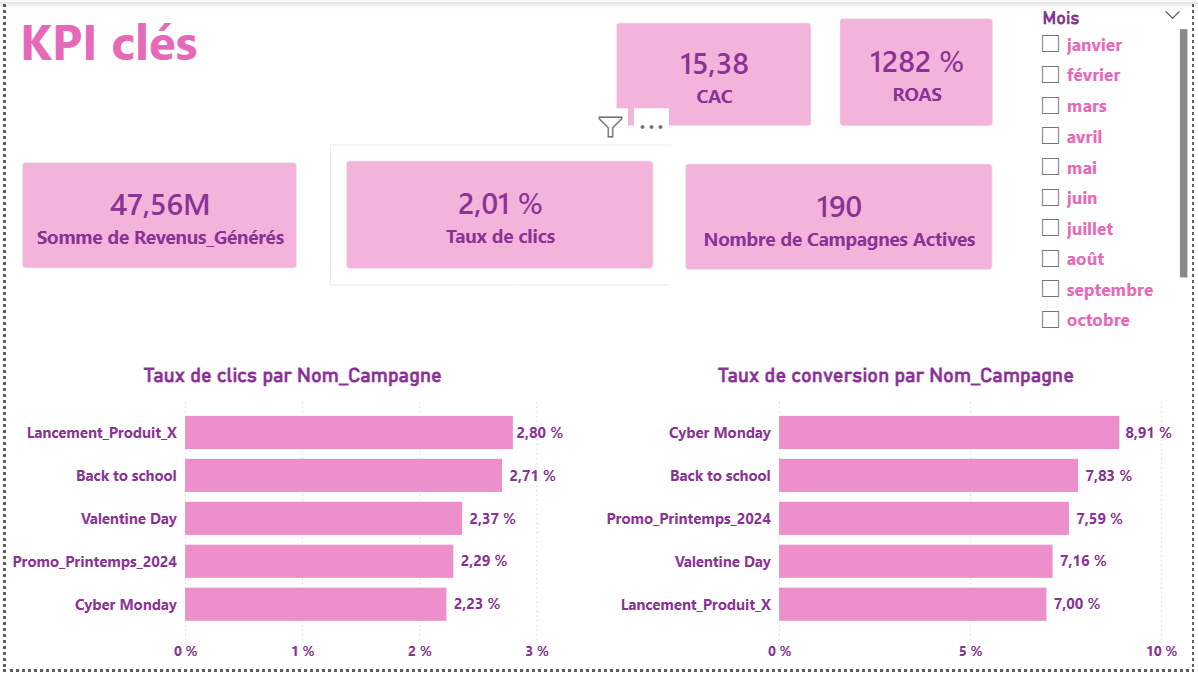

The page's visual inventory and layout, read from the dashboard file:
{"tool":"powerbi","page":{"name":"KPI","canvas":[1280,720],"ordinal":0},"visuals":[{"type":"textbox","box":[9.4,0,771,92.6],"z":0},{"type":"slicer","fields":{"Values":["raw_data (2).Date.Variation.Hiérarchie de dates.Mois"]},"box":[1105.2,0,174.2,360.1],"z":1000},{"type":"cardVisual","fields":{"Data":["raw_data (2).ROAS"]},"box":[882.8,0,200.8,151],"z":3000},{"type":"cardVisual","fields":{"Data":["raw_data (2).CAC"]},"box":[640.6,5,245.6,146],"z":4000},{"type":"cardVisual","fields":{"Data":["raw_data (2).Taux de clics"]},"box":[350.1,154.3,366.7,151],"z":6000},{"type":"cardVisual","fields":{"Data":["raw_data (2).Nombre de Campagnes Actives"]},"box":[716.3,156.5,366.7,149.4],"z":7000},{"type":"cardVisual","fields":{"Data":["Sum(raw_data (2).Revenus_Generes)"]},"box":[0,156,331.9,149.4],"z":7001},{"type":"clusteredBarChart","fields":{"Category":["raw_data (2).Nom_Campagne"],"Y":["raw_data (2).Taux de clics"]},"box":[0,390,619,330.2],"z":7002},{"type":"clusteredBarChart","fields":{"Category":["raw_data (2).Nom_Campagne"],"Y":["raw_data (2).Taux de conversion"]},"box":[640.6,390,638.9,330.2],"z":7003}]}

Visuals, with their boxes in screenshot pixels (x1, y1, x2, y2), scaled from the page's 1280x720 canvas onto the 1198x673 screenshot:
textbox: bbox=(9, 0, 730, 87)
slicer - raw_data (2).Date.Variation.Hiérarchie de dates.Mois: bbox=(1034, 0, 1197, 337)
cardVisual - raw_data (2).ROAS: bbox=(826, 0, 1014, 141)
cardVisual - raw_data (2).CAC: bbox=(600, 5, 829, 141)
cardVisual - raw_data (2).Taux de clics: bbox=(328, 144, 671, 285)
cardVisual - raw_data (2).Nombre de Campagnes Actives: bbox=(670, 146, 1014, 286)
cardVisual - Sum(raw_data (2).Revenus_Generes): bbox=(0, 146, 311, 285)
clusteredBarChart - raw_data (2).Nom_Campagne x raw_data (2).Taux de clics: bbox=(0, 365, 579, 672)
clusteredBarChart - raw_data (2).Nom_Campagne x raw_data (2).Taux de conversion: bbox=(600, 365, 1197, 672)
